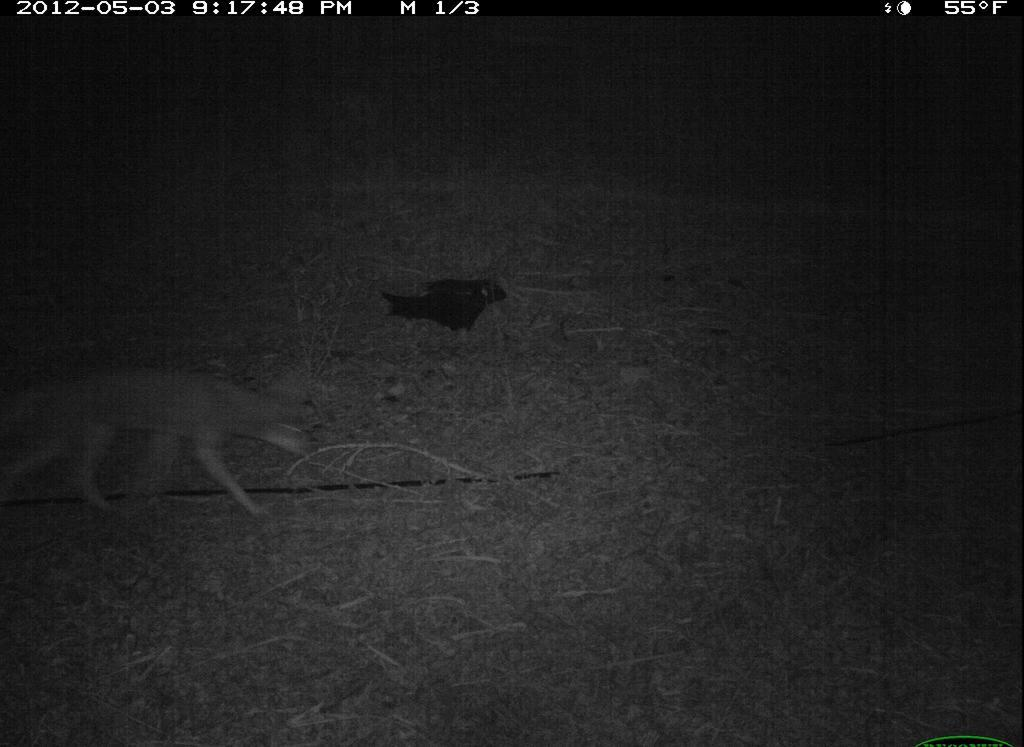coyote: (9, 364, 321, 528)
